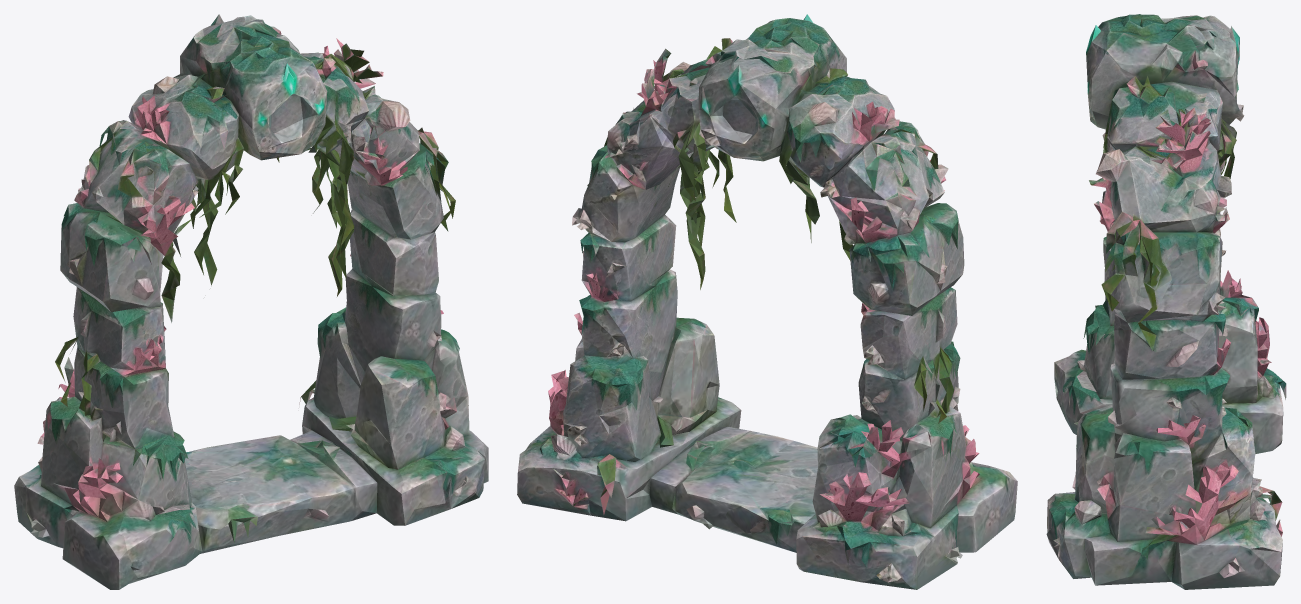
Rendered from portale-citta-sommersa.glb.
The picture shows the model from 3 angles, left to right: view 1: azimuth 30°, elevation 25°; view 2: azimuth 150°, elevation 25°; view 3: azimuth 270°, elevation 25°; orthographic projection.
Bounding box in the file's own units: 1.75 × 1.9 × 0.8773.
1 material, 1 textured.
